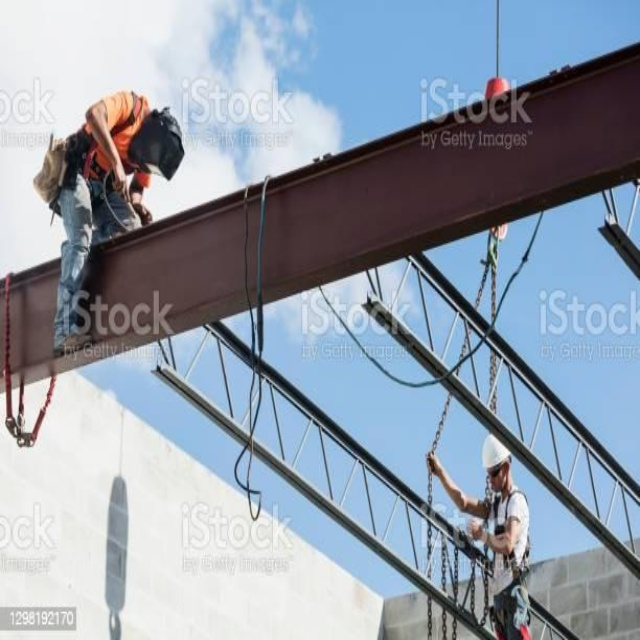Arnes_seguridad: (71, 94, 156, 237), (485, 491, 538, 640)
